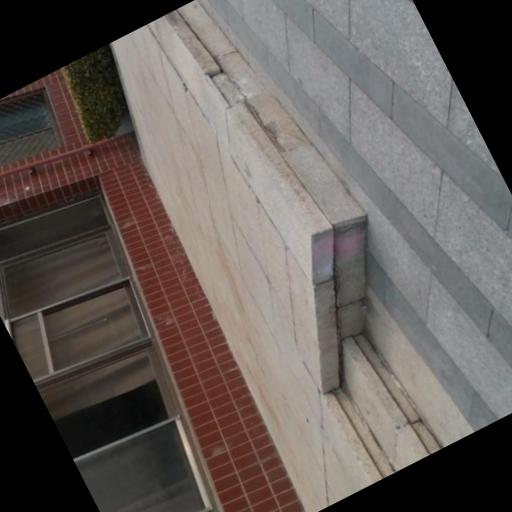stairs: (322, 334, 441, 484)
